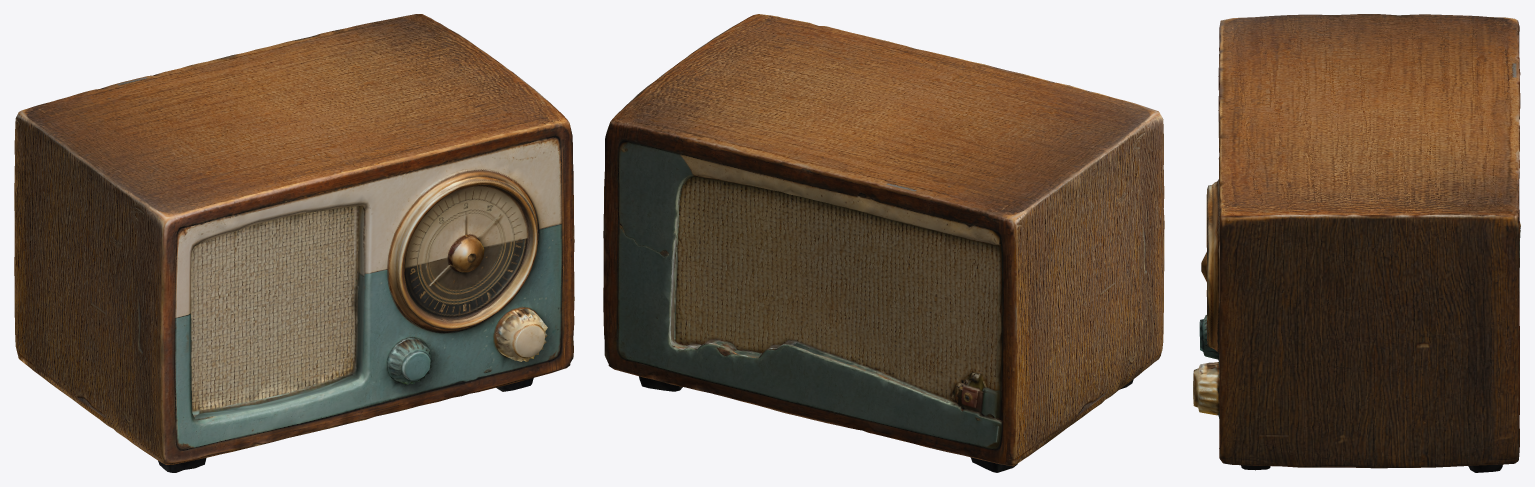
Rendered from prop_radio.fbx.
3 views of the same model, side by side, from view 1: azimuth 30°, elevation 25°; view 2: azimuth 150°, elevation 25°; view 3: azimuth 270°, elevation 25° (orthographic).
Visible parts, largest first — view 1: texture_mapping; view 2: texture_mapping; view 3: texture_mapping.
Part boxes in pixels (box(x1,y1,x2,y2)): texture_mapping: box(14, 14, 574, 472); texture_mapping: box(603, 14, 1164, 472); texture_mapping: box(1193, 14, 1520, 472).
Size of the model in its own units: 0.9992 by 0.6765 by 0.6275.
1 material, 1 textured.
